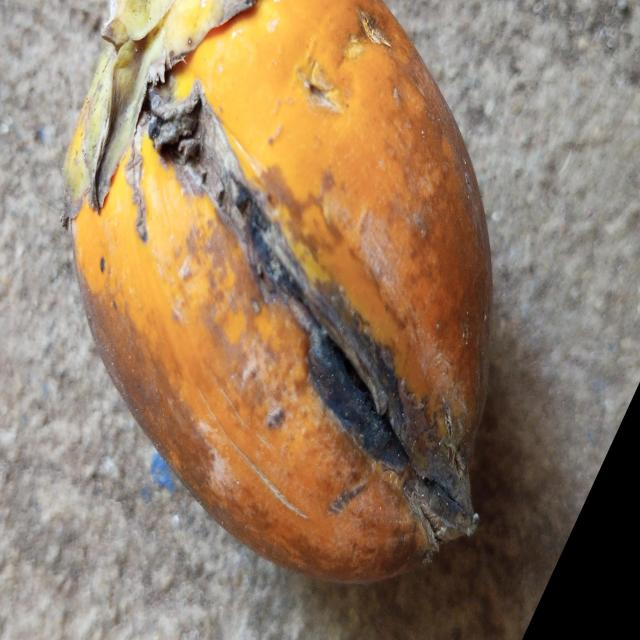damaged: (62, 0, 494, 587)
